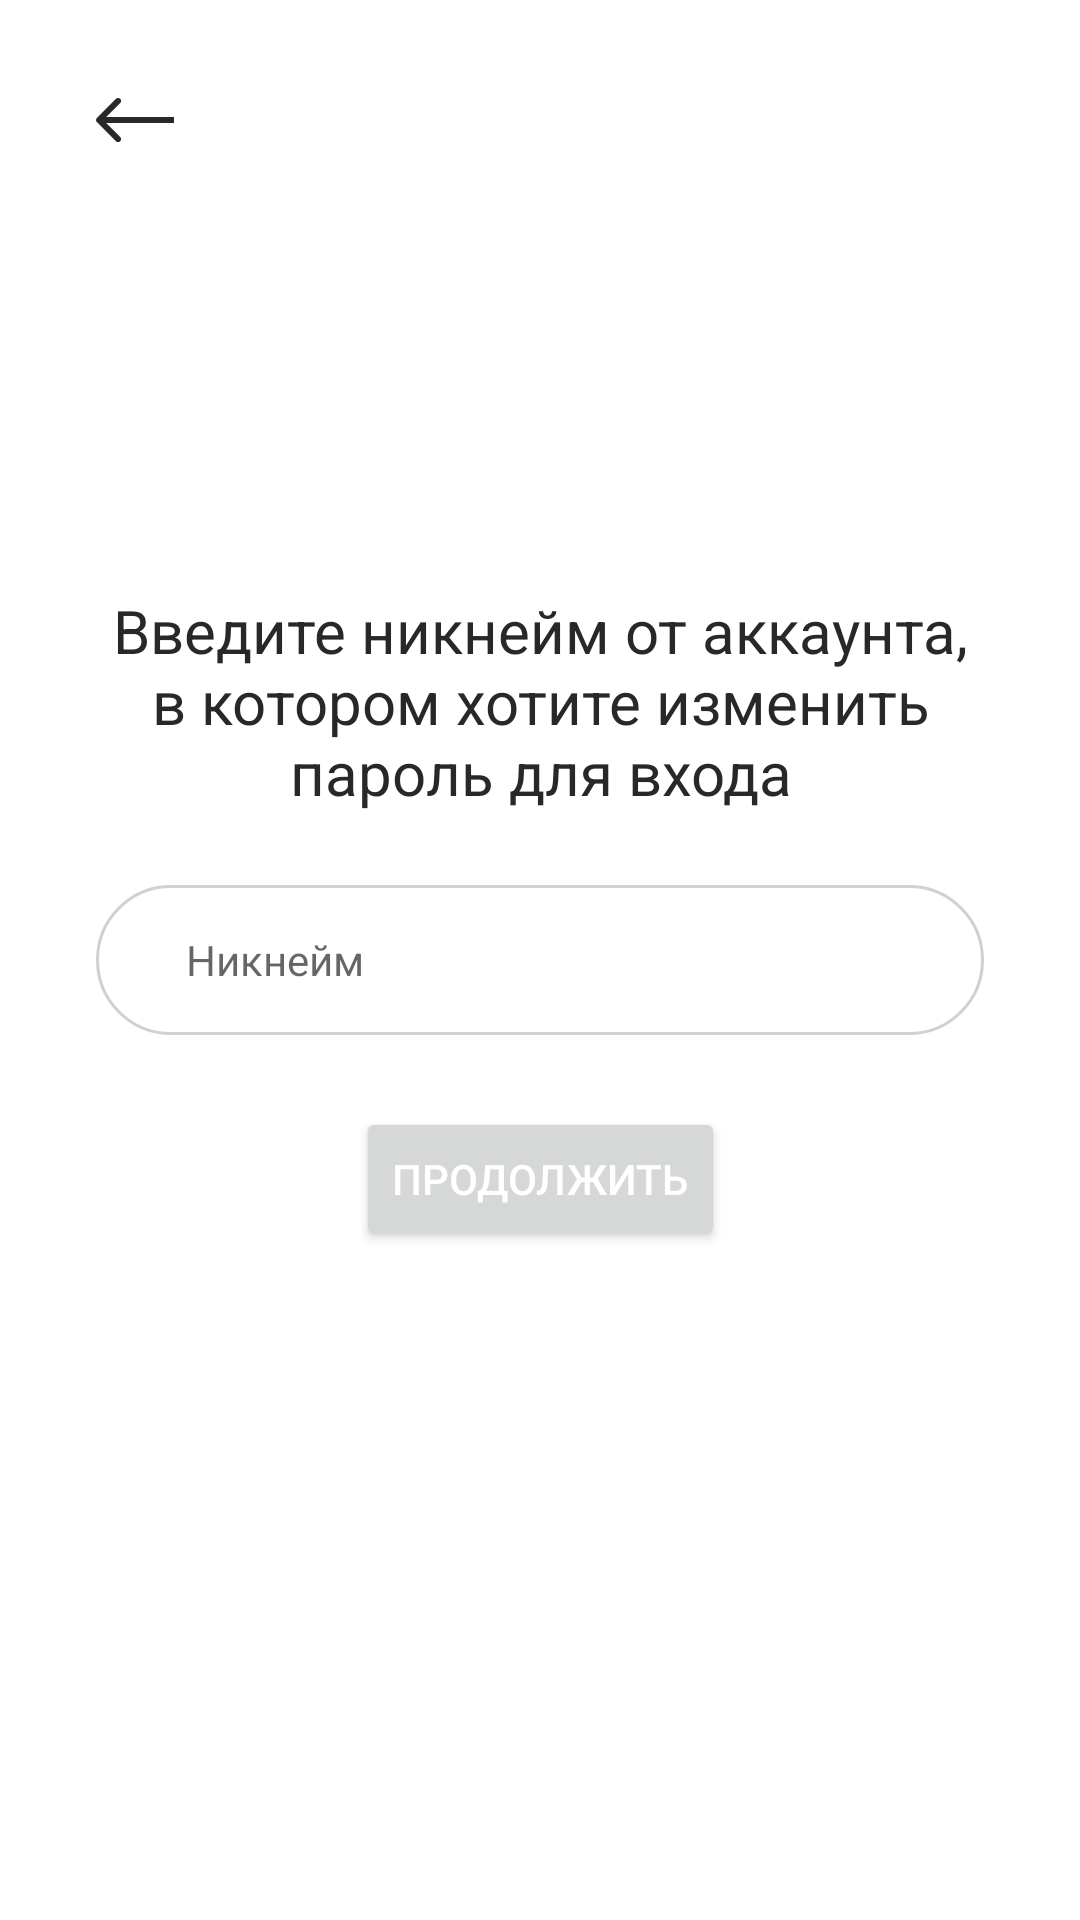

Named icons in this screenshot (1080w x 1920h) and their centers, [x,y]:
go back: [135,120]
